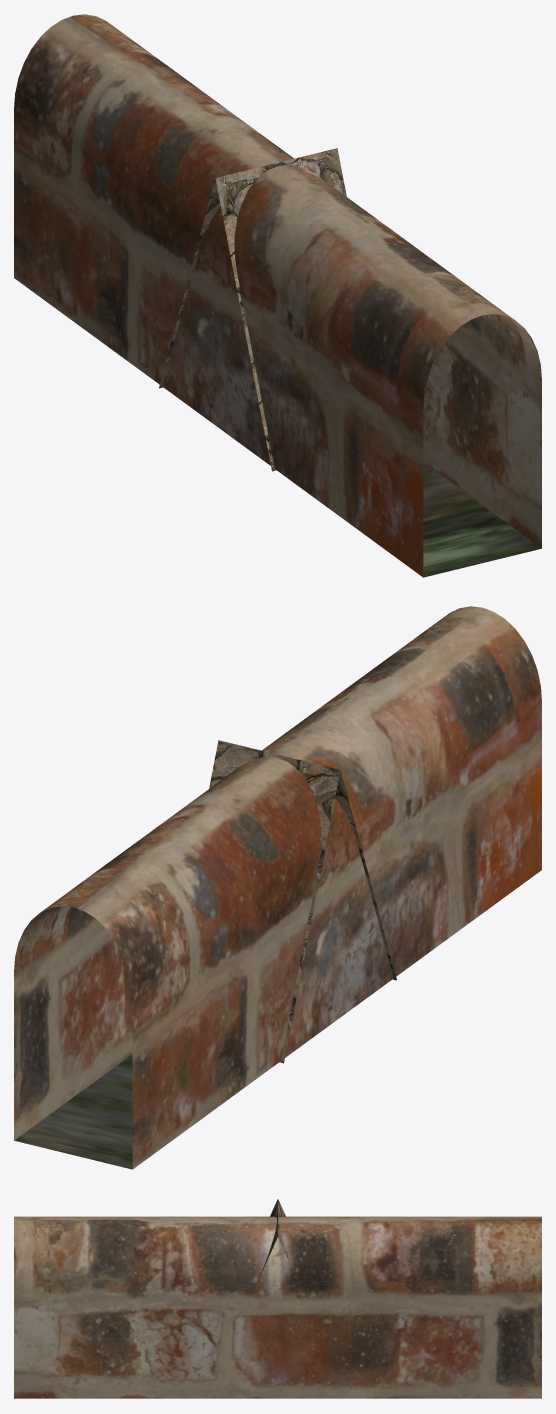
The model's file is tunnel rubble blocker.fbx.
3 renders of one model, top to bottom at view 1: azimuth 30°, elevation 25°; view 2: azimuth 150°, elevation 25°; view 3: azimuth 270°, elevation 25°, orthographic. The views are drawn at different scales.
Visible parts, largest first — view 1: tunnel 6m with rubble, tunnel floor 6m with rubble, rubble blocker; view 2: tunnel 6m with rubble, tunnel floor 6m with rubble, rubble blocker; view 3: tunnel 6m with rubble, rubble blocker.
Part boxes in pixels (bbox=[...]): tunnel 6m with rubble: bbox=[14, 14, 541, 577]; tunnel floor 6m with rubble: bbox=[423, 462, 541, 577]; rubble blocker: bbox=[159, 148, 346, 471]; tunnel 6m with rubble: bbox=[14, 606, 541, 1169]; tunnel floor 6m with rubble: bbox=[14, 1054, 132, 1169]; rubble blocker: bbox=[209, 740, 396, 1063]; tunnel 6m with rubble: bbox=[14, 1216, 541, 1398]; rubble blocker: bbox=[258, 1199, 297, 1280].
Size of the model in its own units: 103 by 600 by 204.
